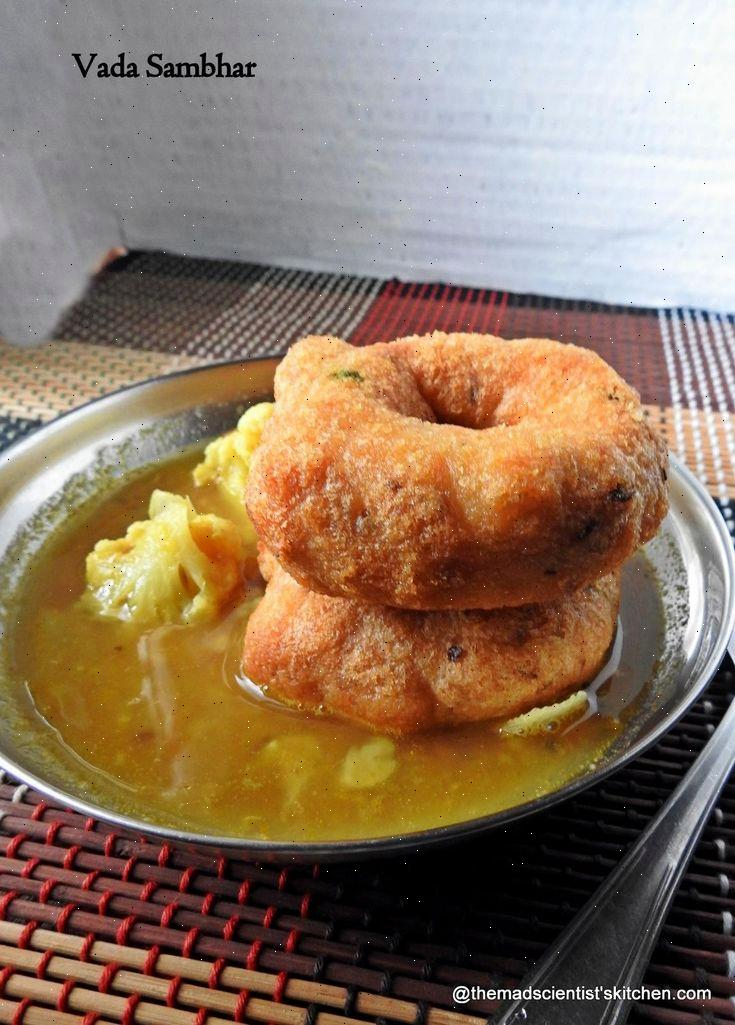medu vada: (252, 332, 646, 742)
sambhar: (70, 492, 249, 796)
